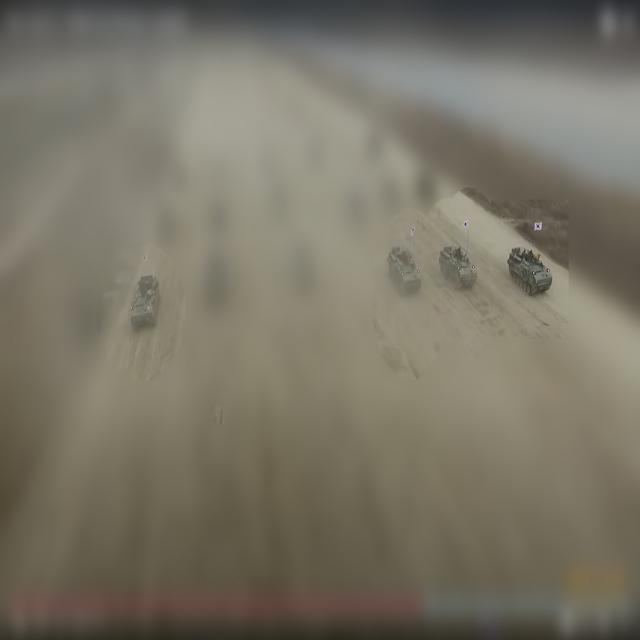tank: (507, 247, 554, 296), (438, 245, 478, 288), (387, 247, 423, 294)
